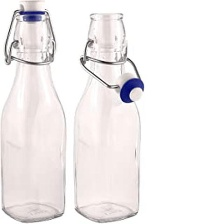bottle: (70, 8, 153, 224), (0, 0, 69, 224)
